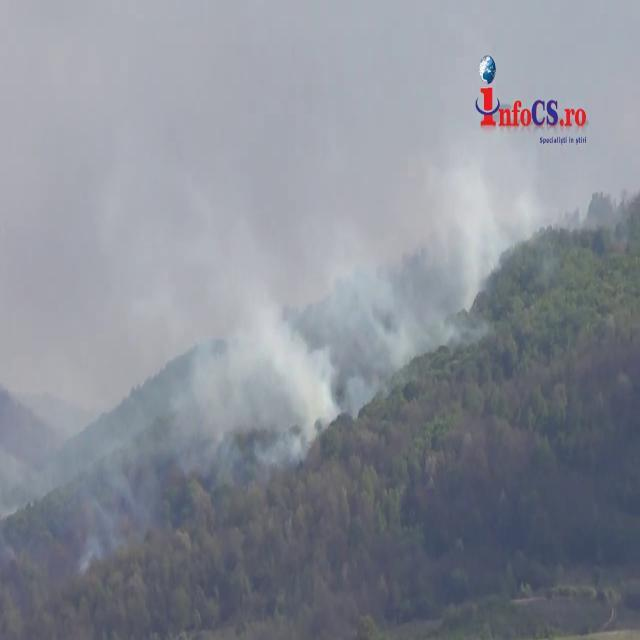Smoke: (162, 211, 448, 489)
